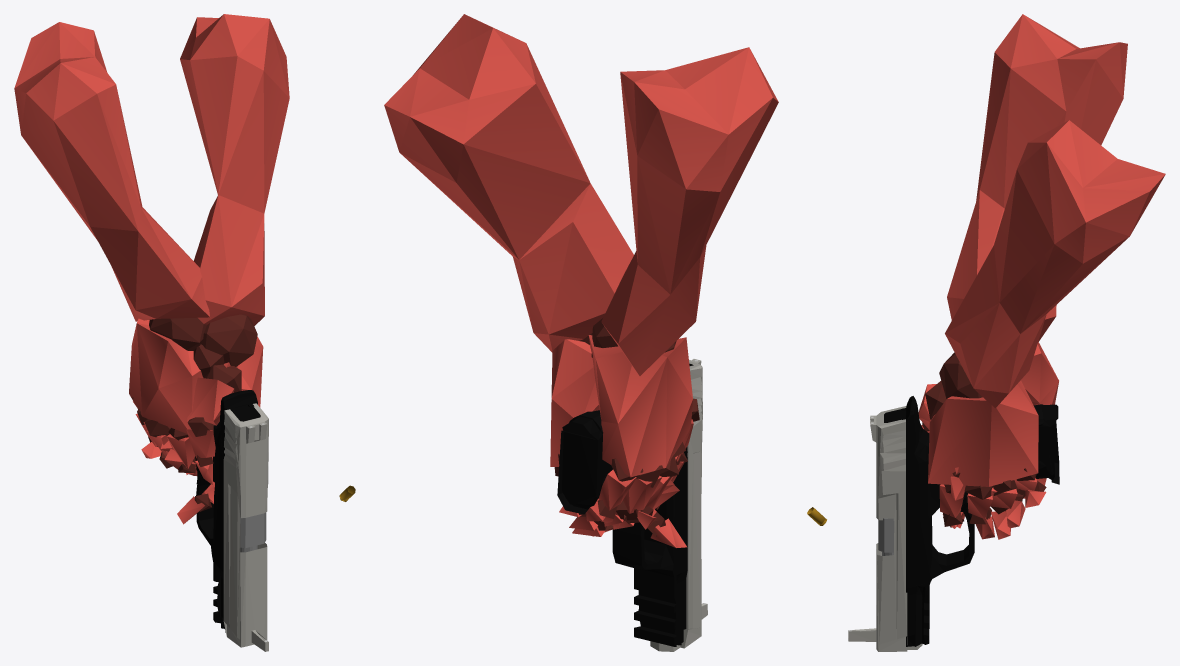
The model's file is M&P9shootLowP_000206.obj.
3 renders of one model, left to right at view 1: azimuth 30°, elevation 25°; view 2: azimuth 150°, elevation 25°; view 3: azimuth 270°, elevation 25°, orthographic. The views are drawn at different scales.
Parts seen in each view (by area): view 1: Beta_Surface.001_Beta_Surface.002, slide_平面.002, Beta_Joints.001_Beta_Joints.002, triger_平面.001; view 2: Beta_Surface.001_Beta_Surface.002, triger_平面.001, slide_平面.002, Beta_Joints.001_Beta_Joints.002; view 3: Beta_Surface.001_Beta_Surface.002, triger_平面.001, slide_平面.002, Beta_Joints.001_Beta_Joints.002.
Part boxes in pixels (box(x1,y1,x2,y2)): Beta_Surface.001_Beta_Surface.002: box(14, 14, 289, 524); slide_平面.002: box(223, 403, 268, 651); Beta_Joints.001_Beta_Joints.002: box(132, 314, 257, 511); triger_平面.001: box(195, 390, 266, 629); Beta_Surface.001_Beta_Surface.002: box(384, 14, 778, 547); triger_平面.001: box(562, 410, 687, 646); slide_平面.002: box(650, 359, 707, 651); Beta_Joints.001_Beta_Joints.002: box(554, 318, 699, 536); Beta_Surface.001_Beta_Surface.002: box(918, 14, 1165, 539); triger_平面.001: box(878, 396, 1058, 646); slide_平面.002: box(848, 406, 922, 651); Beta_Joints.001_Beta_Joints.002: box(922, 352, 1046, 527).
Bounding box in the file's own units: 42.47 × 80.1 × 45.61.
